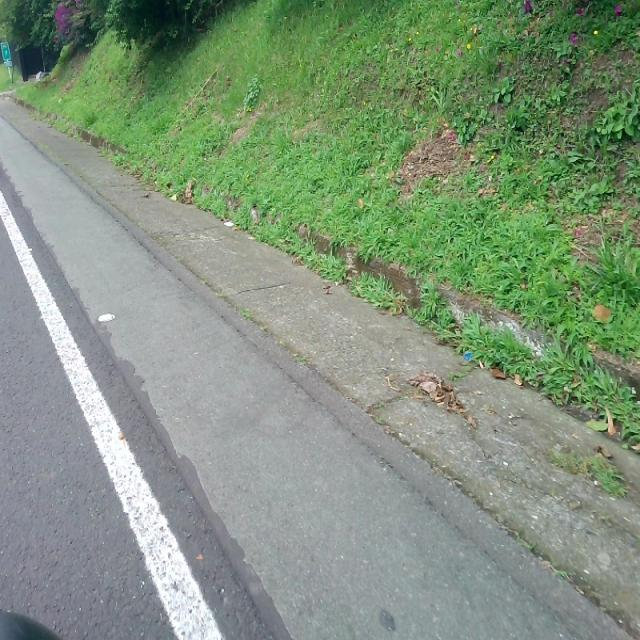DITCH: (1, 94, 638, 638), (60, 80, 638, 638)
